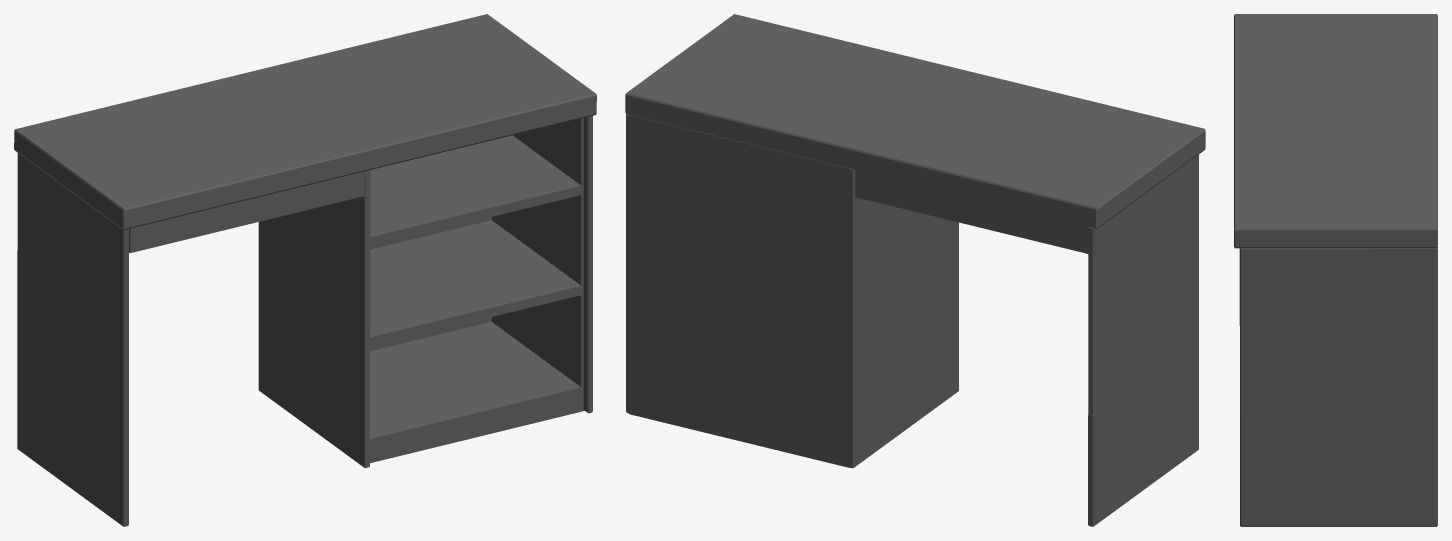
File: Desk_323_1_FP323StudyDesk3.obj
The picture shows the model from 3 angles, left to right: view 1: azimuth 30°, elevation 25°; view 2: azimuth 150°, elevation 25°; view 3: azimuth 270°, elevation 25°; orthographic projection. The views are drawn at different scales.
Bounding box in the file's own units: 1.39 × 0.8977 × 0.555.
